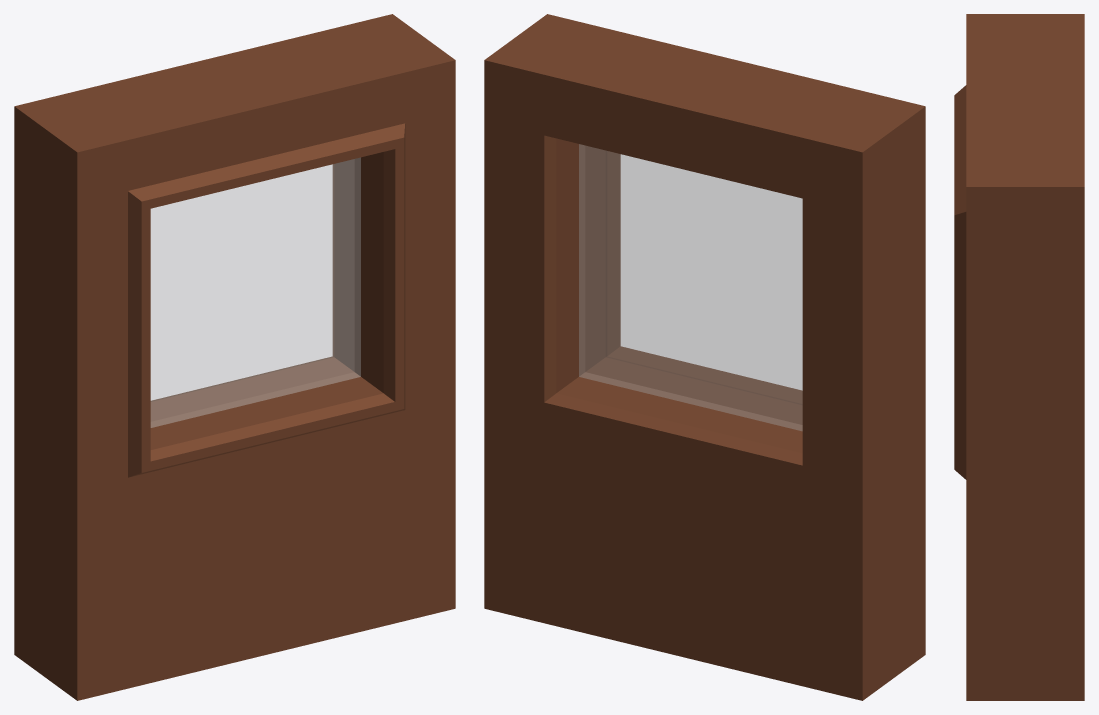
The model's file is wooden_window.glb.
3 renders of one model, left to right at view 1: azimuth 30°, elevation 25°; view 2: azimuth 150°, elevation 25°; view 3: azimuth 270°, elevation 25°, orthographic. The views are drawn at different scales.
Parts seen in each view (by area): view 1: WoodenWindowFrame, Window; view 2: WoodenWindowFrame, Window; view 3: WoodenWindowFrame.
Part boxes in pixels (bbox=[...]): WoodenWindowFrame: bbox=[14, 14, 455, 700]; Window: bbox=[151, 157, 360, 427]; WoodenWindowFrame: bbox=[484, 14, 925, 700]; Window: bbox=[579, 144, 802, 430]; WoodenWindowFrame: bbox=[954, 14, 1084, 700].
Bounding box in the file's own units: 1.73 × 2.4 × 0.5512.
Materials: 2 (1 with a texture image).
